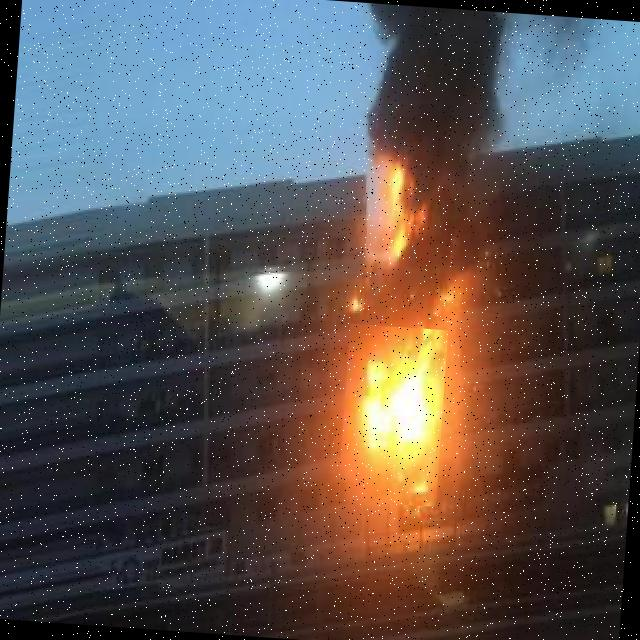fire: (338, 324, 448, 506)
